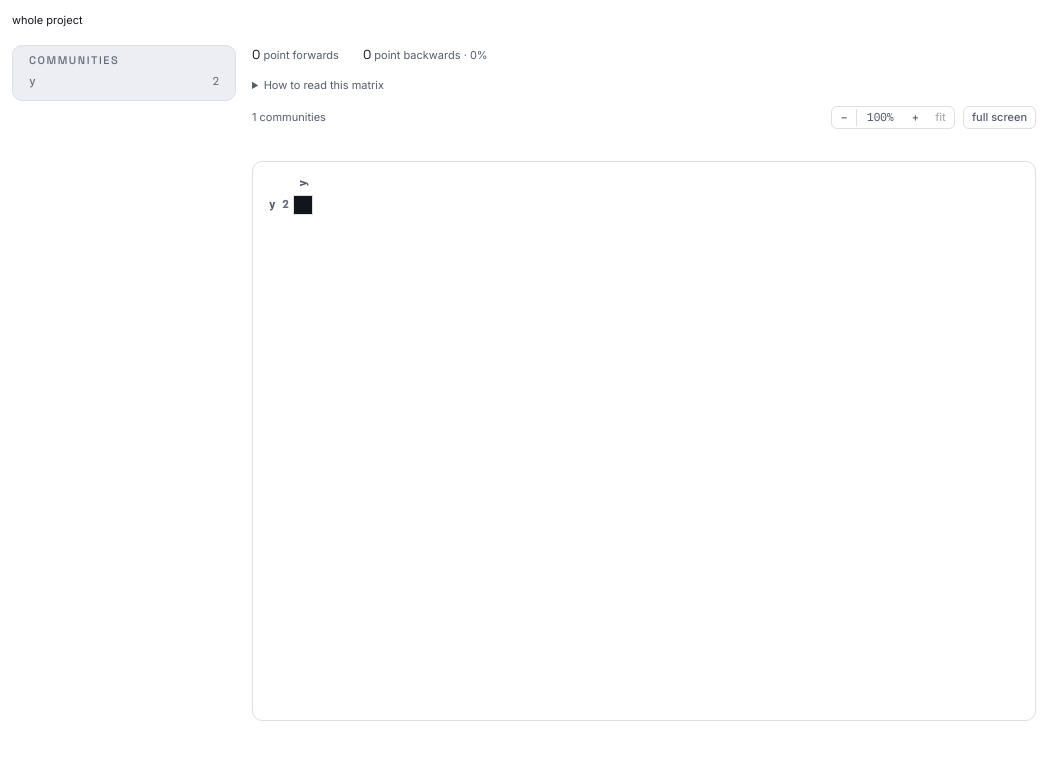
Test: what a community touches › says nothing rather than drawing an empty row
Click the 1st button "y 2" at [124, 82], box [21,71,227,92]
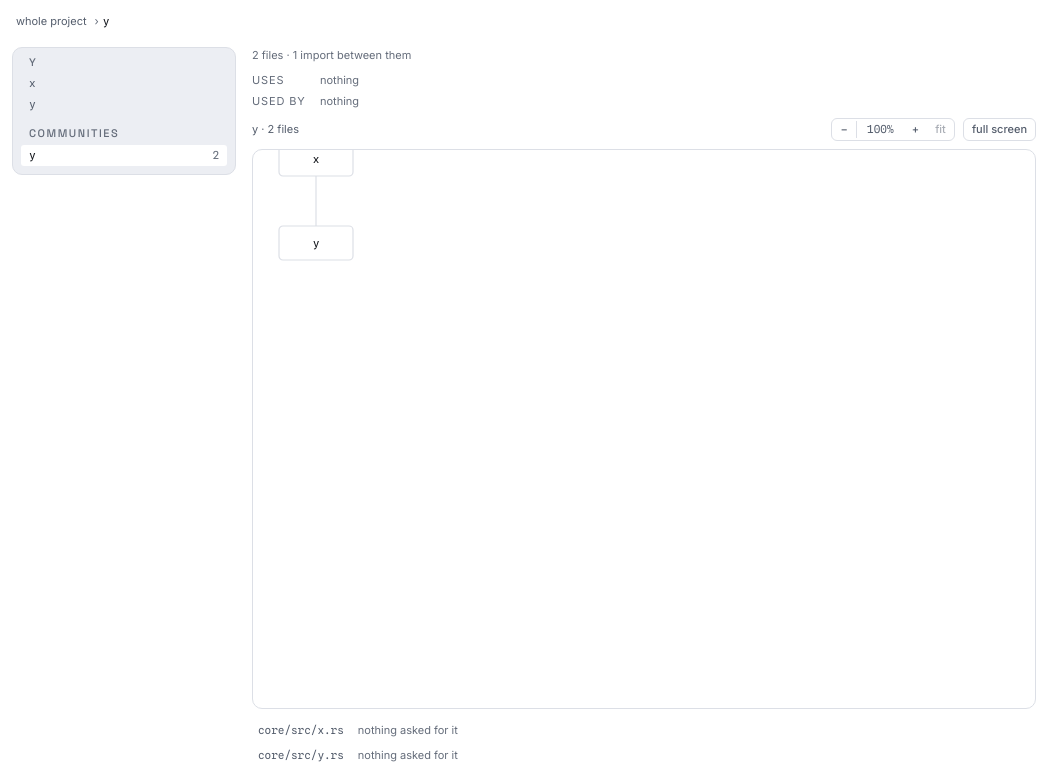
Check: the text "nothing" is shown 2 times, box [320,72,359,89]; [320,93,359,110]
